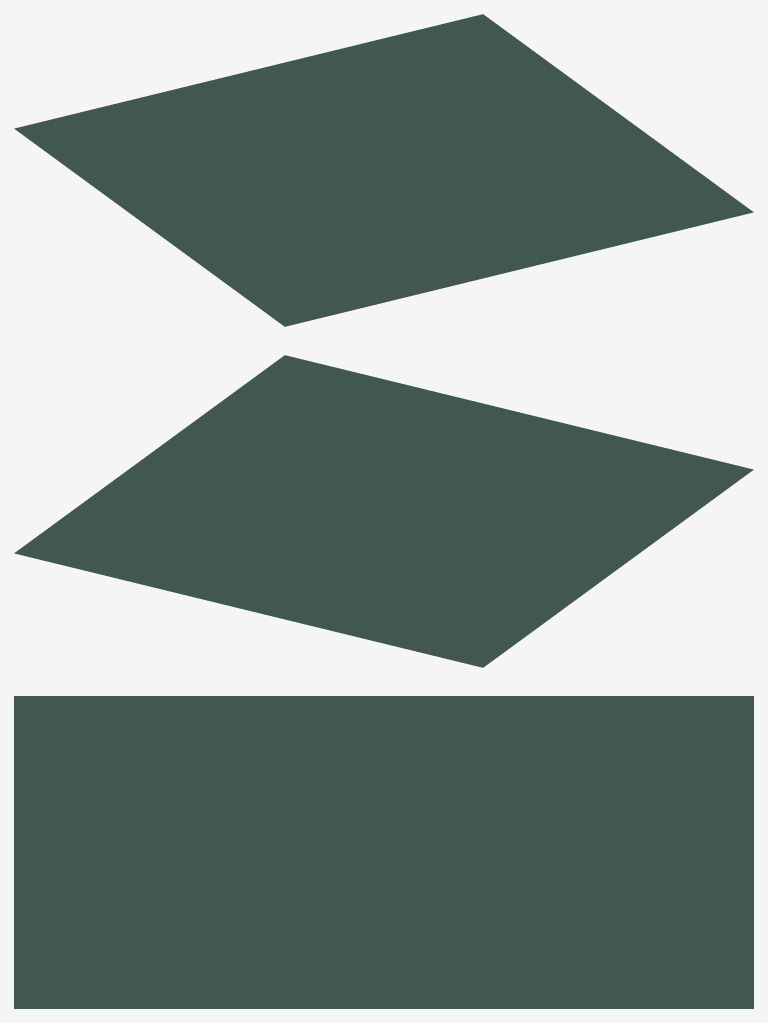
Rendered from terrain.glb.
3 renders of one model, top to bottom at view 1: azimuth 30°, elevation 25°; view 2: azimuth 150°, elevation 25°; view 3: azimuth 270°, elevation 25°, orthographic. The views are drawn at different scales.
Visible parts, largest first — view 1: StylizedTerrain; view 2: StylizedTerrain; view 3: StylizedTerrain.
Part boxes in pixels (box(x1,y1,x2,y2)): StylizedTerrain: box(14, 14, 753, 326); StylizedTerrain: box(14, 355, 753, 667); StylizedTerrain: box(14, 696, 753, 1008).
Size of the model in its own units: 100 by 0 by 100.
